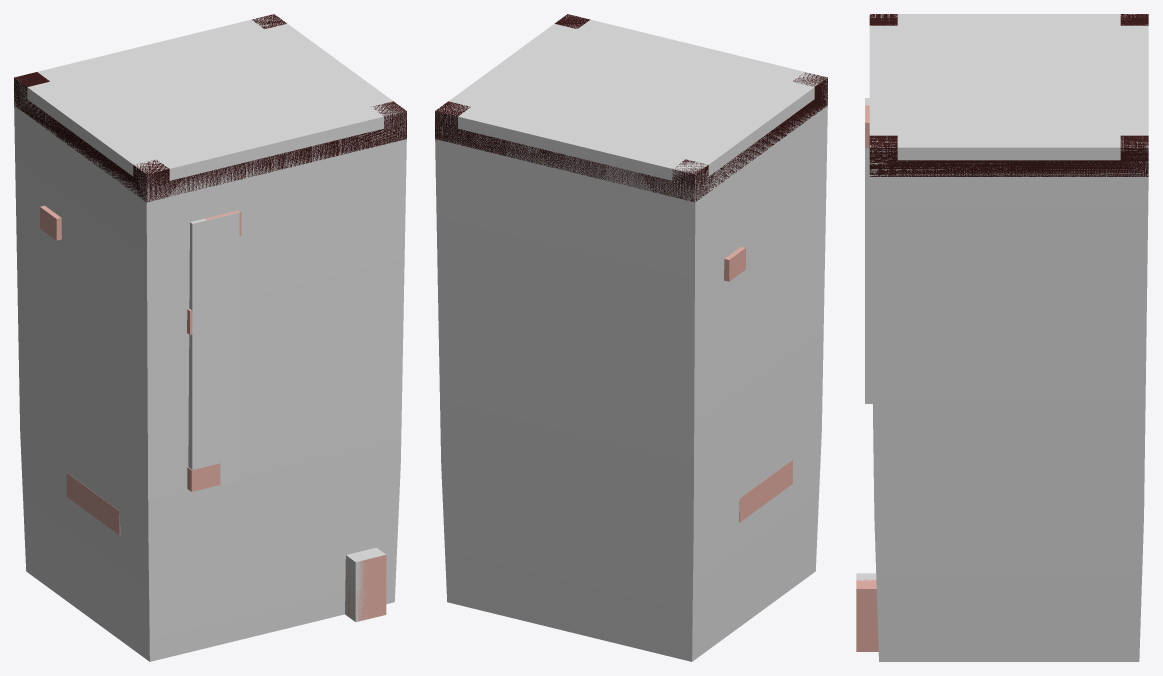
The model's file is Building_B2_Home05_1_01.FBX.
3 views of the same model, side by side, from view 1: azimuth 30°, elevation 25°; view 2: azimuth 150°, elevation 25°; view 3: azimuth 270°, elevation 25° (orthographic). The views are drawn at different scales.
Parts seen in each view (by area): view 1: Building_B2_Home05_Damage_1_01, Building_B2_Home05_Live_1_01; view 2: Building_B2_Home05_Damage_1_01, Building_B2_Home05_Live_1_01; view 3: Building_B2_Home05_Damage_1_01, Building_B2_Home05_Live_1_01.
Boxes of the visible parts, x1,y1,x2,y2 form: Building_B2_Home05_Damage_1_01: [14, 14, 406, 661]; Building_B2_Home05_Live_1_01: [14, 14, 406, 621]; Building_B2_Home05_Damage_1_01: [435, 14, 827, 661]; Building_B2_Home05_Live_1_01: [435, 14, 827, 522]; Building_B2_Home05_Damage_1_01: [856, 14, 1148, 661]; Building_B2_Home05_Live_1_01: [856, 14, 1148, 651].
Size of the model in its own units: 8.28 by 14.76 by 7.55.
